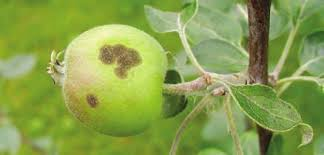damaged_apple: (57, 25, 173, 134)
